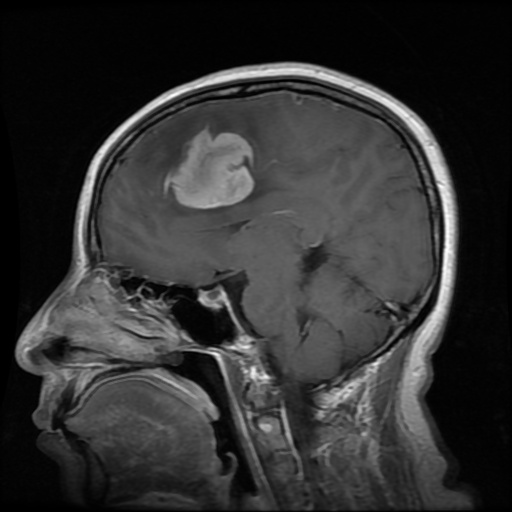meningioma: (164, 125, 255, 207)
